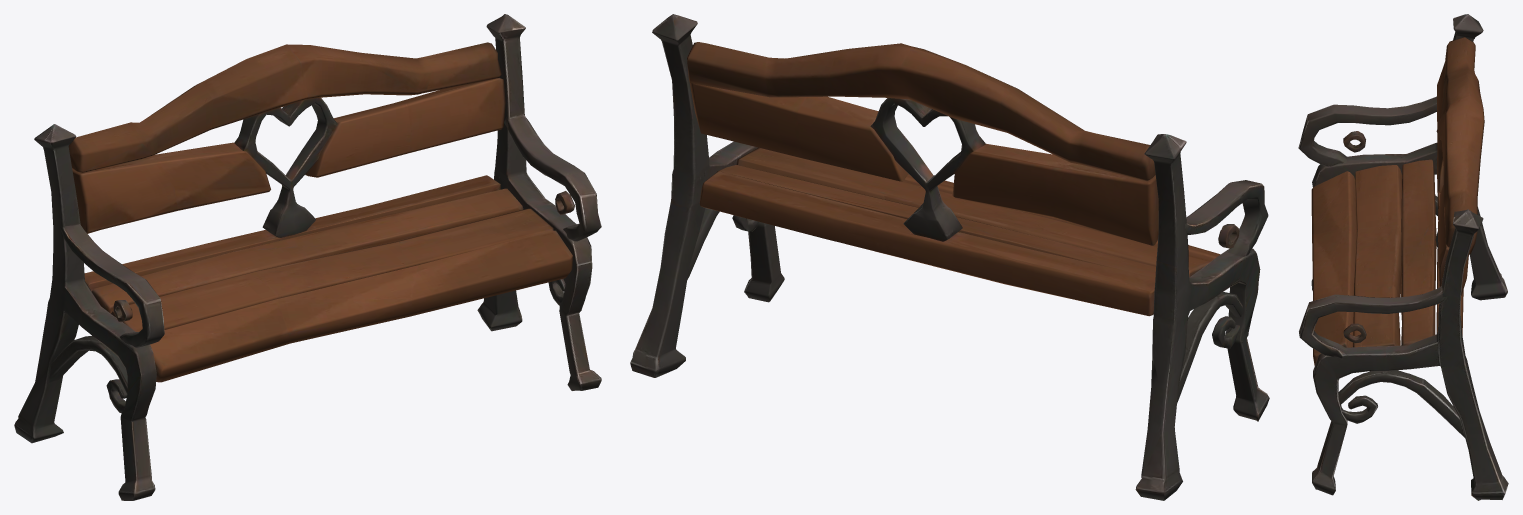
The model's file is lavka.glb.
3 renders of one model, left to right at view 1: azimuth 30°, elevation 25°; view 2: azimuth 150°, elevation 25°; view 3: azimuth 270°, elevation 25°, orthographic. The views are drawn at different scales.
Size of the model in its own units: 1 by 0.6679 by 0.419.
Materials: 1 (1 with a texture image).
